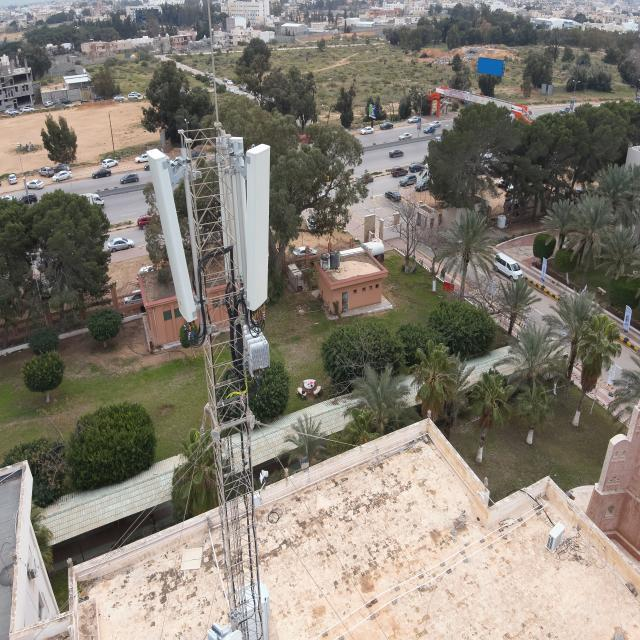antenna: (146, 146, 198, 324), (215, 134, 250, 284), (244, 143, 272, 311)
lighnig-rad: (205, 5, 222, 127)
microware-dish: (206, 621, 244, 640)
radio-unit: (242, 322, 271, 371)
